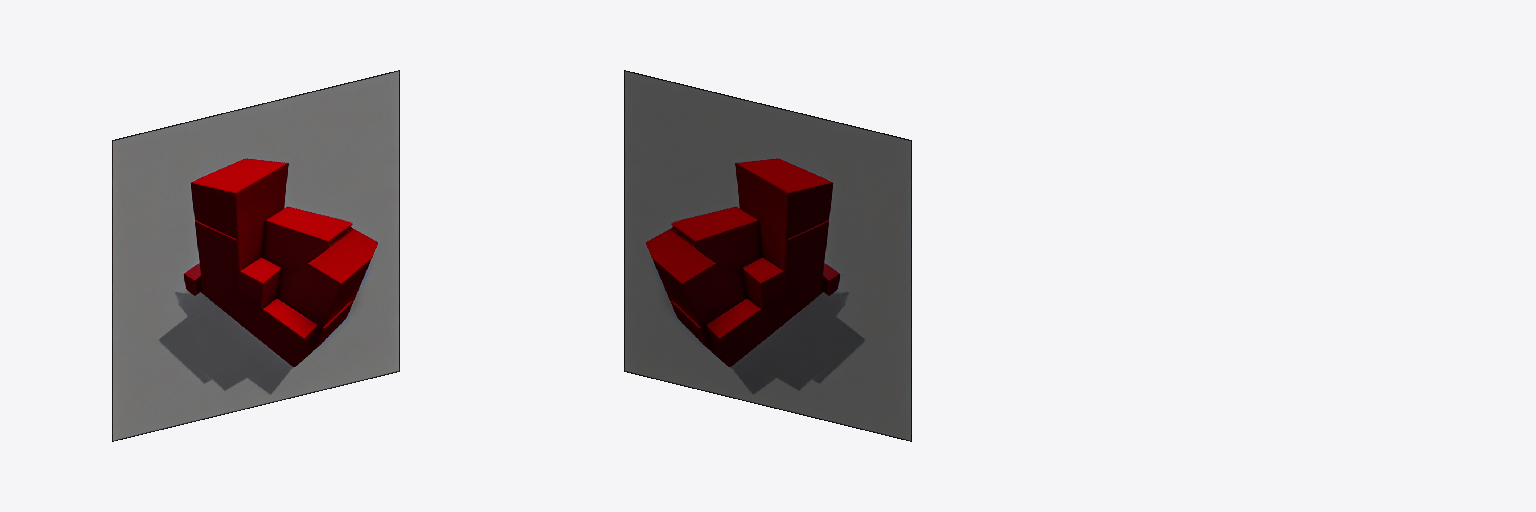
The picture shows the model from 3 angles: view 1: azimuth 30°, elevation 25°; view 2: azimuth 150°, elevation 25°; view 3: azimuth 270°, elevation 25°; orthographic projection.
Parts seen in each view (by area): view 1: fallback_quad; view 2: fallback_quad; view 3: none.
Part boxes in pixels (left/top/right/bottom): fallback_quad: left=112, top=70, right=399, bottom=441; fallback_quad: left=624, top=70, right=911, bottom=441.
Size of the model in its own units: 1 by 1 by 0.
Materials: 1 (1 with a texture image).